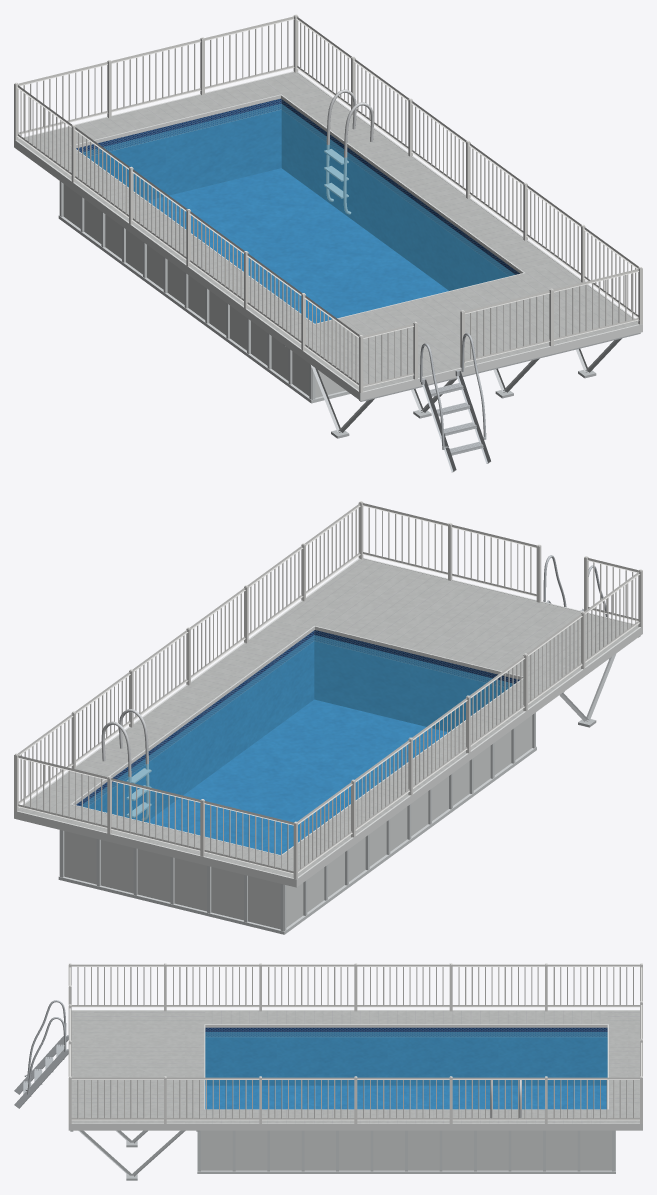
File: kayak-pool-12x24-white-end-ag-fence.0ee10950c2.glb
3 renders of one model, top to bottom at view 1: azimuth 30°, elevation 25°; view 2: azimuth 150°, elevation 25°; view 3: azimuth 270°, elevation 25°, orthographic. The views are drawn at different scales.
Parts seen in each view (by area): view 1: water, deck, fence, liner_wall, liner_floor, fascia, wall, upright, ladder, stud, steel; view 2: water, deck, fence, liner_wall, liner_floor, wall, fascia, upright, steel, stud; view 3: water, deck, liner_wall, fence, wall, liner_floor, fascia, upright, ladder, stud.
Boxes of the visible parts, left/top/right/bottom form: water: left=81, top=103, right=514, bottom=323; deck: left=17, top=72, right=638, bottom=391; fence: left=14, top=14, right=642, bottom=392; liner_wall: left=76, top=98, right=519, bottom=290; liner_floor: left=148, top=168, right=448, bottom=323; fascia: left=14, top=71, right=642, bottom=400; wall: left=63, top=184, right=345, bottom=397; upright: left=58, top=181, right=350, bottom=403; ladder: left=420, top=333, right=490, bottom=472; stud: left=283, top=332, right=640, bottom=438; steel: left=324, top=89, right=373, bottom=214; water: left=81, top=635, right=512, bottom=854; deck: left=18, top=558, right=638, bottom=877; fence: left=14, top=501, right=642, bottom=879; liner_wall: left=76, top=630, right=519, bottom=821; liner_floor: left=147, top=699, right=446, bottom=854; wall: left=64, top=715, right=532, bottom=929; fascia: left=14, top=558, right=642, bottom=887; upright: left=58, top=712, right=536, bottom=934; steel: left=101, top=709, right=151, bottom=820; stud: left=559, top=636, right=640, bottom=727; water: left=205, top=1032, right=607, bottom=1109; deck: left=71, top=1010, right=639, bottom=1123; liner_wall: left=205, top=1027, right=607, bottom=1085; fence: left=68, top=963, right=642, bottom=1123; wall: left=201, top=1130, right=611, bottom=1170; liner_floor: left=205, top=1085, right=606, bottom=1109; fascia: left=68, top=1010, right=642, bottom=1130; upright: left=197, top=1130, right=615, bottom=1173; ladder: left=14, top=1000, right=68, bottom=1108; stud: left=70, top=1130, right=199, bottom=1180.
Size of the model in its own units: 4.88 by 2.15 by 11.35.
Materials: 11 (3 with a texture image).
